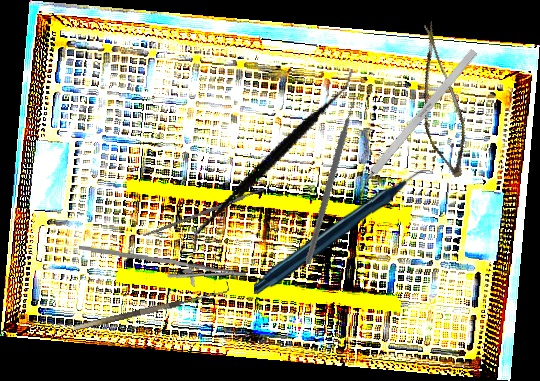Chopper: (265, 93, 409, 265)
Handpiece: (253, 167, 434, 298)
Hook Surgical: (346, 48, 478, 203), (71, 281, 231, 331)
Micro Scissor: (387, 18, 490, 182)
Needle Holder: (77, 245, 247, 289)
Scalpel Handle: (142, 186, 267, 239)
Spatula Surgical: (189, 43, 357, 278)
